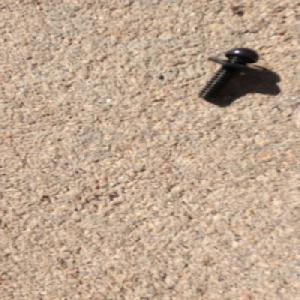BoltWasher: (197, 46, 265, 100)
